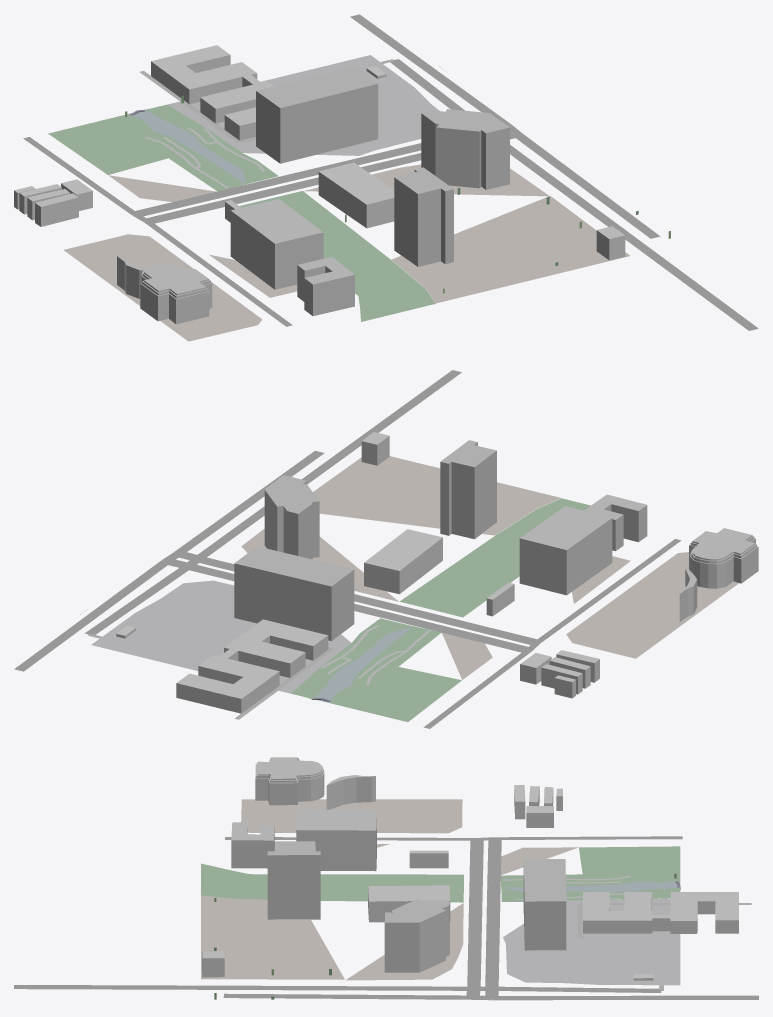
3 renders of one model, top to bottom at view 1: azimuth 30°, elevation 25°; view 2: azimuth 150°, elevation 25°; view 3: azimuth 270°, elevation 25°, orthographic. The views are drawn at different scales.
Bounding box in the file's own units: 516 × 75.89 × 777.
